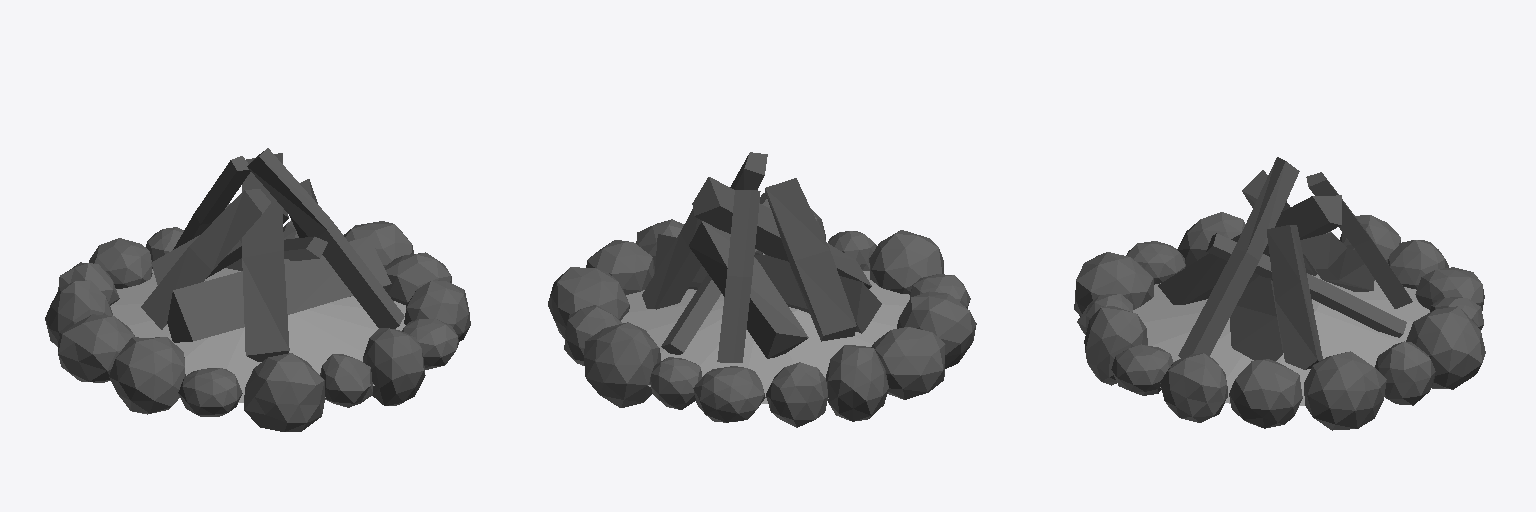
File: bonfire.obj
3 renders of one model, left to right at view 1: azimuth 30°, elevation 25°; view 2: azimuth 150°, elevation 25°; view 3: azimuth 270°, elevation 25°, orthographic.
Parts seen in each view (by area): view 1: Bonfire_Cylinder; view 2: Bonfire_Cylinder; view 3: Bonfire_Cylinder.
Part boxes in pixels (x1,y1,x2,y2): Bonfire_Cylinder: (45,148,470,431); Bonfire_Cylinder: (548,152,976,427); Bonfire_Cylinder: (1074,157,1485,430).
Bounding box in the file's own units: 2.49 × 1.3 × 2.38.